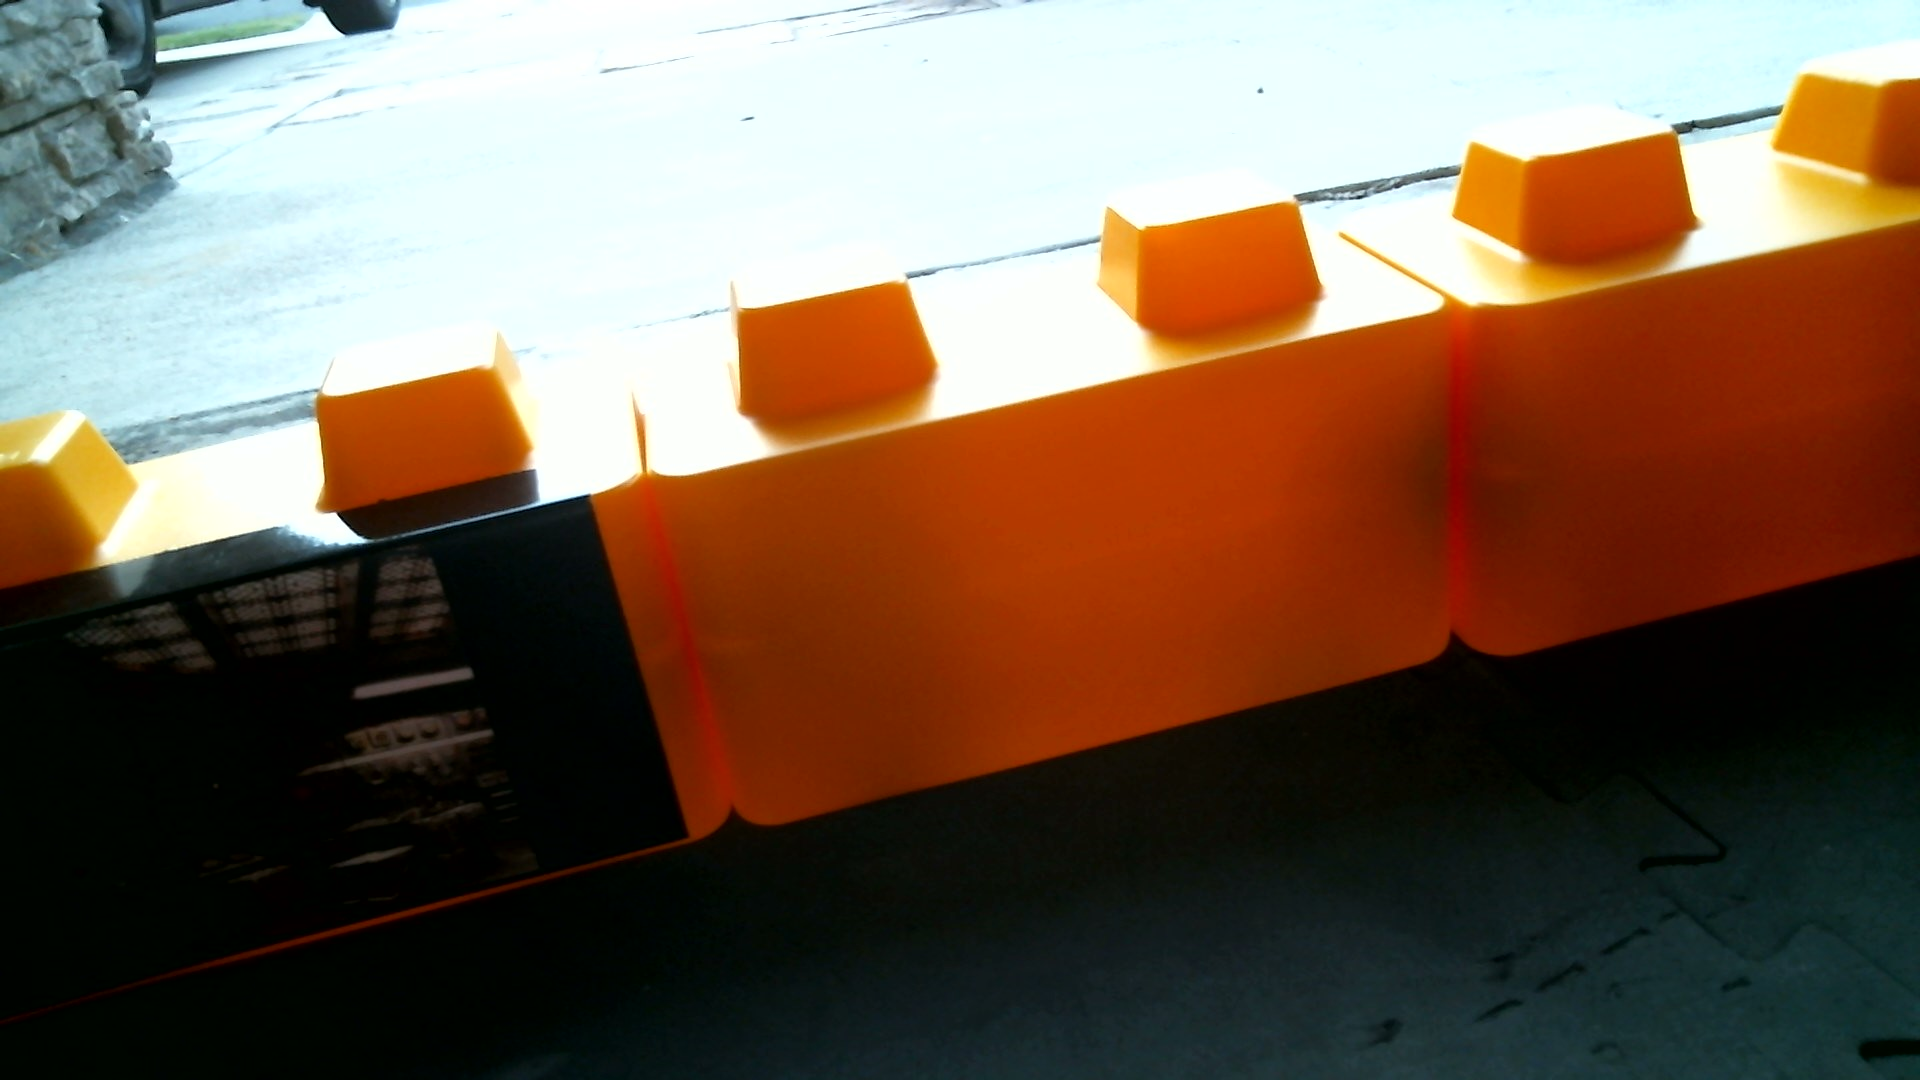left: (15, 40, 1919, 1017)
